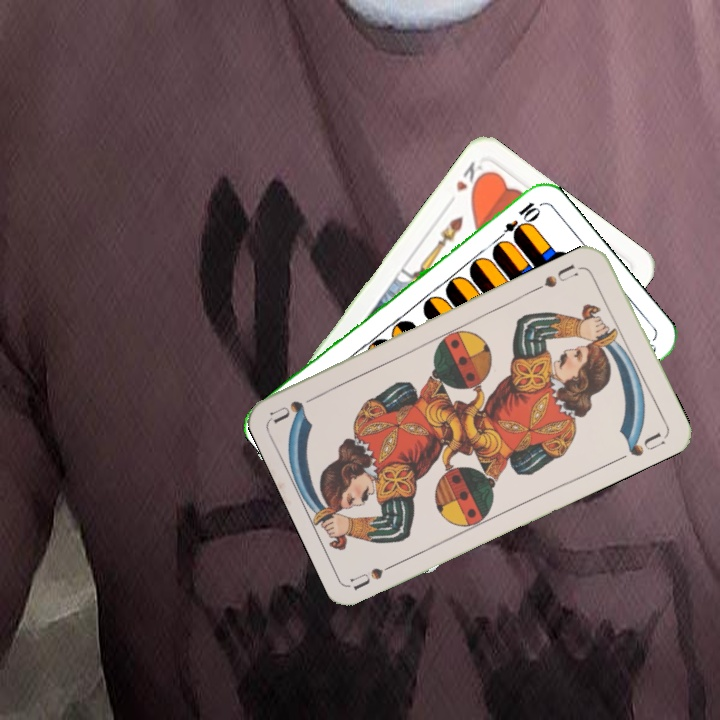E10: (492, 197, 542, 245)
HK: (452, 157, 490, 197)
SU: (348, 556, 405, 593), (540, 259, 581, 291)
